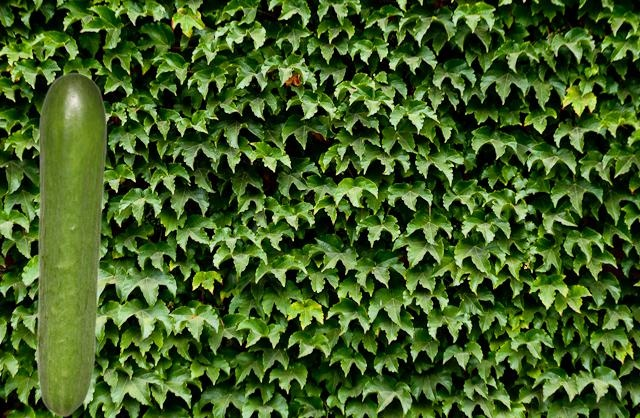cucumber: (36, 72, 106, 416)
